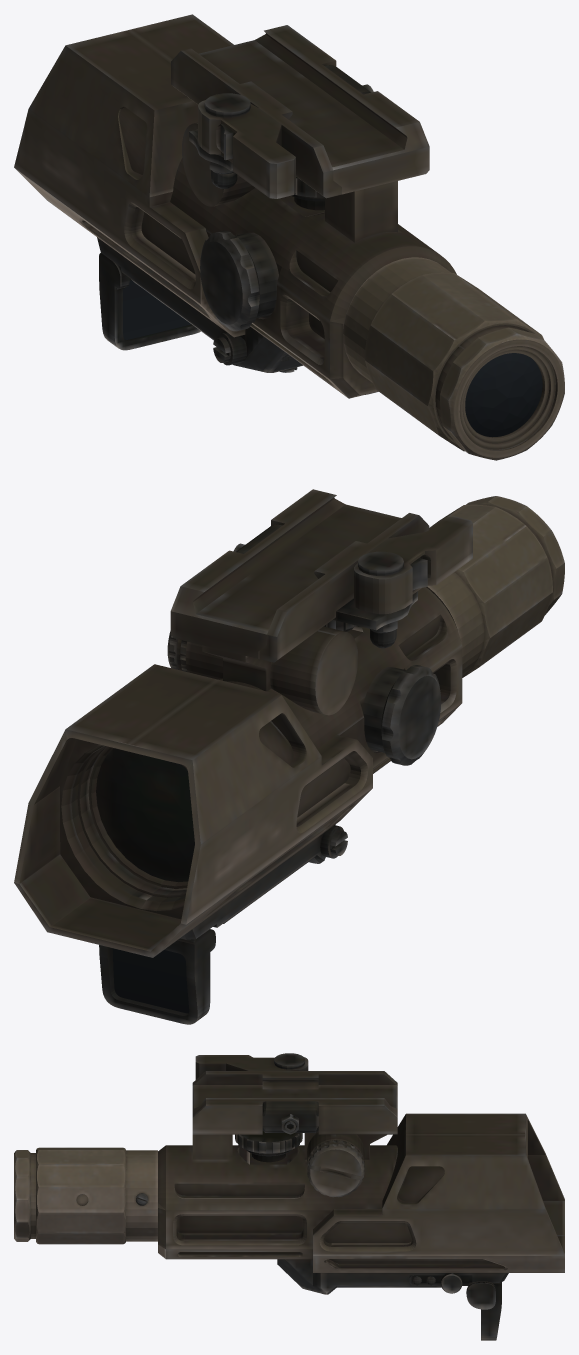
3 views of the same model, one above another, from view 1: azimuth 30°, elevation 25°; view 2: azimuth 150°, elevation 25°; view 3: azimuth 270°, elevation 25° (orthographic). The views are drawn at different scales.
Visible parts, largest first — view 1: TW_5dfe6104585a0c3e995c7b82_PZ_Import; view 2: TW_5dfe6104585a0c3e995c7b82_PZ_Import; view 3: TW_5dfe6104585a0c3e995c7b82_PZ_Import.
Part boxes in pixels (<box>): TW_5dfe6104585a0c3e995c7b82_PZ_Import: <box>14,14,564,460</box>; TW_5dfe6104585a0c3e995c7b82_PZ_Import: <box>14,489,564,1024</box>; TW_5dfe6104585a0c3e995c7b82_PZ_Import: <box>14,1053,564,1340</box>.
Size of the model in its own units: 0.0311 by 0.117 by 0.0571.
Materials: 1 (1 with a texture image).
